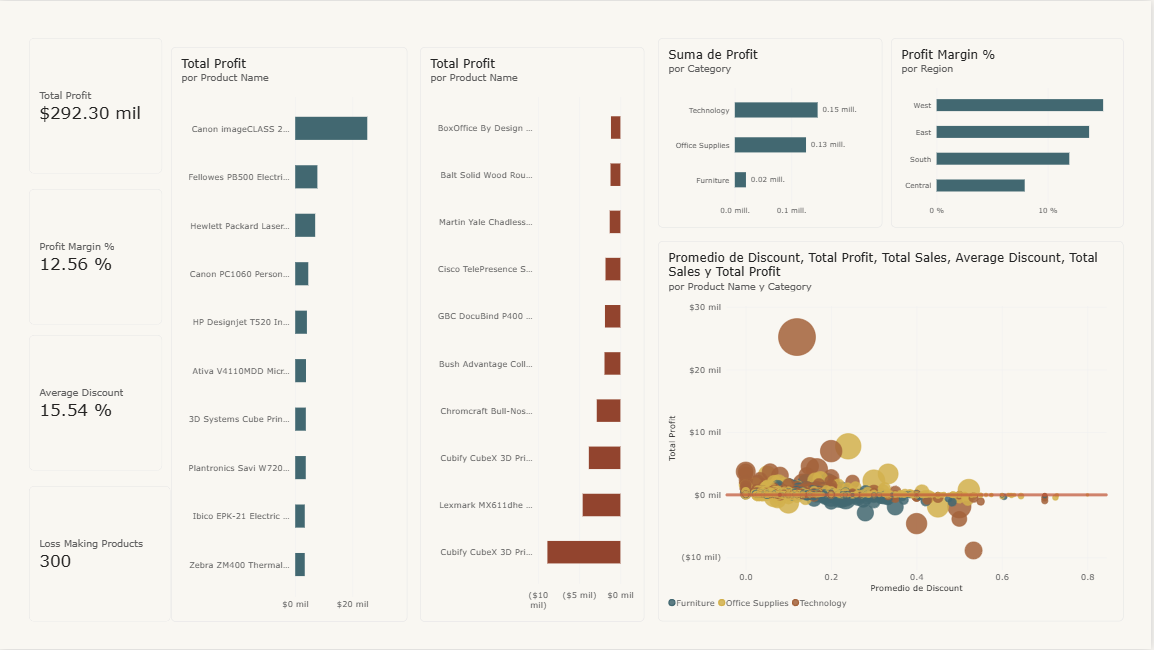

What the dashboard file says about the page in this screenshot:
{"tool":"powerbi","page":{"name":"Profitability Analysis","canvas":[1920,1080],"ordinal":2},"visuals":[{"type":"clusteredBarChart","fields":{"Category":["Orders.Category"],"Y":["Sum(Orders.Profit)"]},"box":[1098,62,374,316],"z":0},{"type":"clusteredBarChart","fields":{"Category":["Orders.Region"],"Y":["Orders.Profit Margin %"]},"box":[1486,62,388,316],"z":1000},{"type":"clusteredBarChart","fields":{"Category":["Orders.Product Name"],"Y":["Orders.Total Profit"]},"box":[286,76,394,958],"z":2000},{"type":"clusteredBarChart","fields":{"Category":["Orders.Product Name"],"Y":["Orders.Total Profit"]},"box":[702,76,374,958],"z":3000},{"type":"scatterChart","fields":{"Category":["Orders.Product Name"],"Series":["Orders.Category"],"Size":["Orders.Total Sales"],"X":["Avg(Orders.Discount)"],"Y":["Orders.Total Profit"]},"box":[1098,400,776,634],"z":4000},{"type":"cardVisual","fields":{"Data":["Orders.Total Profit"]},"box":[50,62,222,226],"z":5000},{"type":"cardVisual","fields":{"Data":["Orders.Profit Margin %"]},"box":[50,314,222,226],"z":6000},{"type":"cardVisual","fields":{"Data":["Orders.Average Discount"]},"box":[50,556,222,226],"z":7000},{"type":"cardVisual","fields":{"Data":["Orders.Loss Making Products"]},"box":[50,808,236,226],"z":8000}]}

Visuals, with their boxes in screenshot pixels (x1, y1, x2, y2), scaled from the page's 1920x1080 canvas onto the 1154x650 screenshot:
clusteredBarChart - Orders.Category x Sum(Orders.Profit): x1=660, y1=37, x2=885, y2=228
clusteredBarChart - Orders.Region x Orders.Profit Margin %: x1=893, y1=37, x2=1126, y2=228
clusteredBarChart - Orders.Product Name x Orders.Total Profit: x1=172, y1=46, x2=409, y2=622
clusteredBarChart - Orders.Product Name x Orders.Total Profit: x1=422, y1=46, x2=647, y2=622
scatterChart - Orders.Product Name x Orders.Category: x1=660, y1=241, x2=1126, y2=622
cardVisual - Orders.Total Profit: x1=30, y1=37, x2=163, y2=173
cardVisual - Orders.Profit Margin %: x1=30, y1=189, x2=163, y2=325
cardVisual - Orders.Average Discount: x1=30, y1=335, x2=163, y2=471
cardVisual - Orders.Loss Making Products: x1=30, y1=486, x2=172, y2=622
